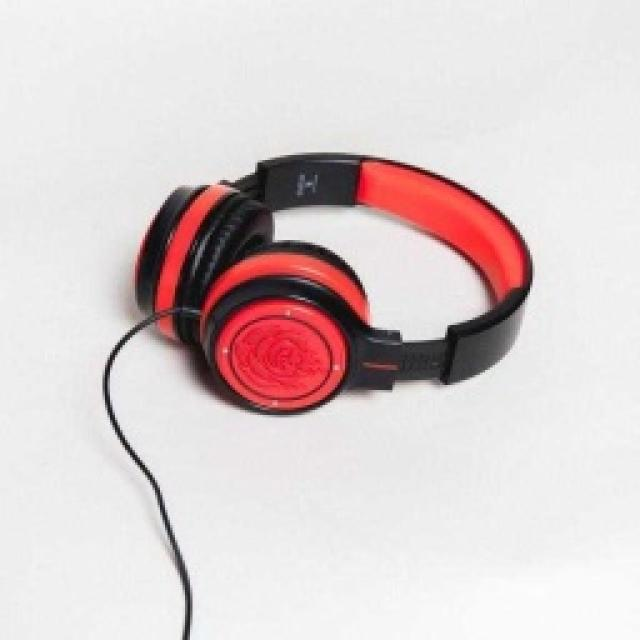headphones: (132, 147, 532, 415)
